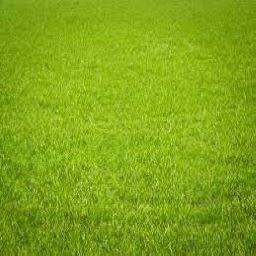grass: (1, 2, 252, 252)
